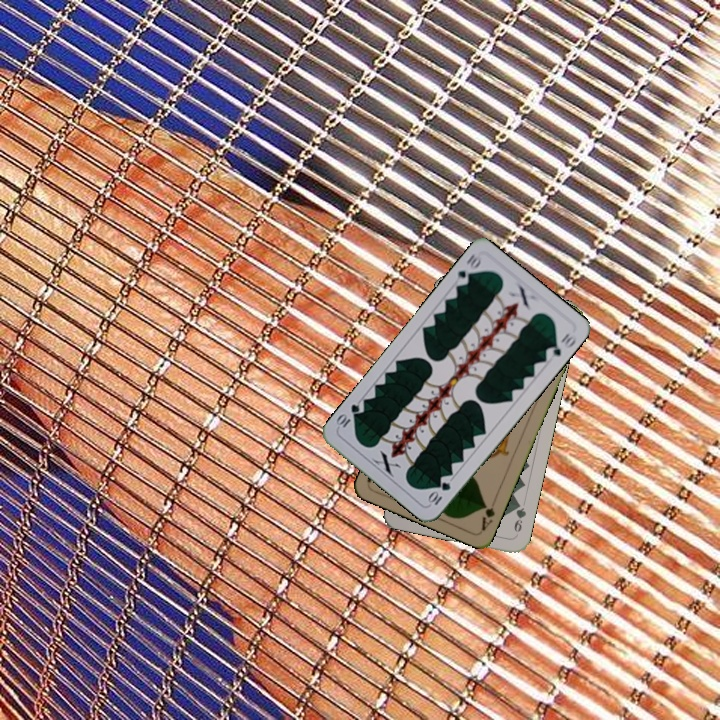G10: (451, 250, 484, 289), (424, 478, 453, 508)
G9: (510, 498, 529, 539)
GA: (477, 499, 498, 533)
